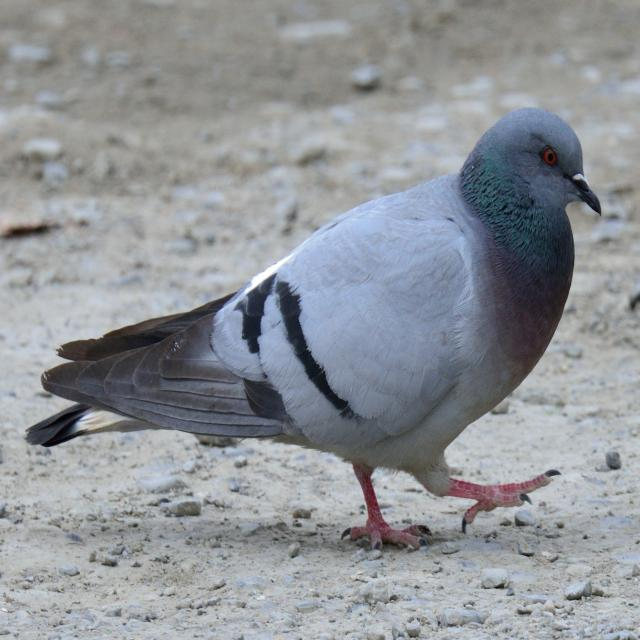Pigeon: (24, 102, 607, 551)
